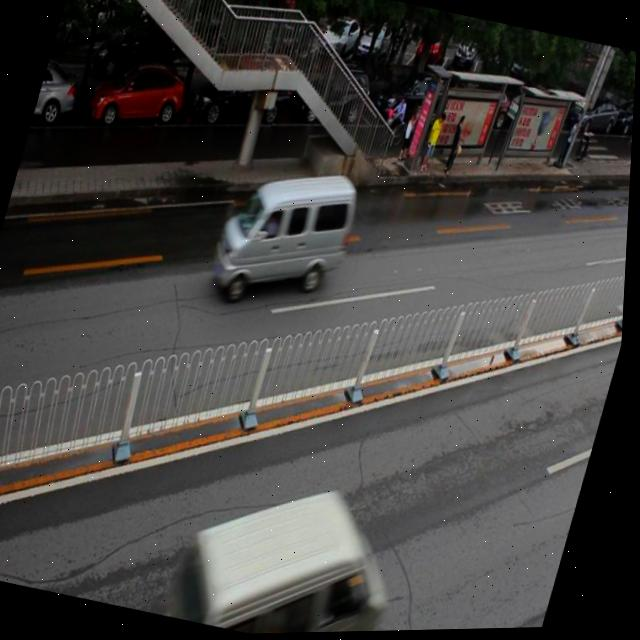car: (87, 52, 193, 138), (190, 63, 295, 137), (288, 62, 378, 137), (371, 67, 458, 139), (32, 59, 87, 130)
truck: (168, 455, 420, 637), (202, 149, 368, 323)
